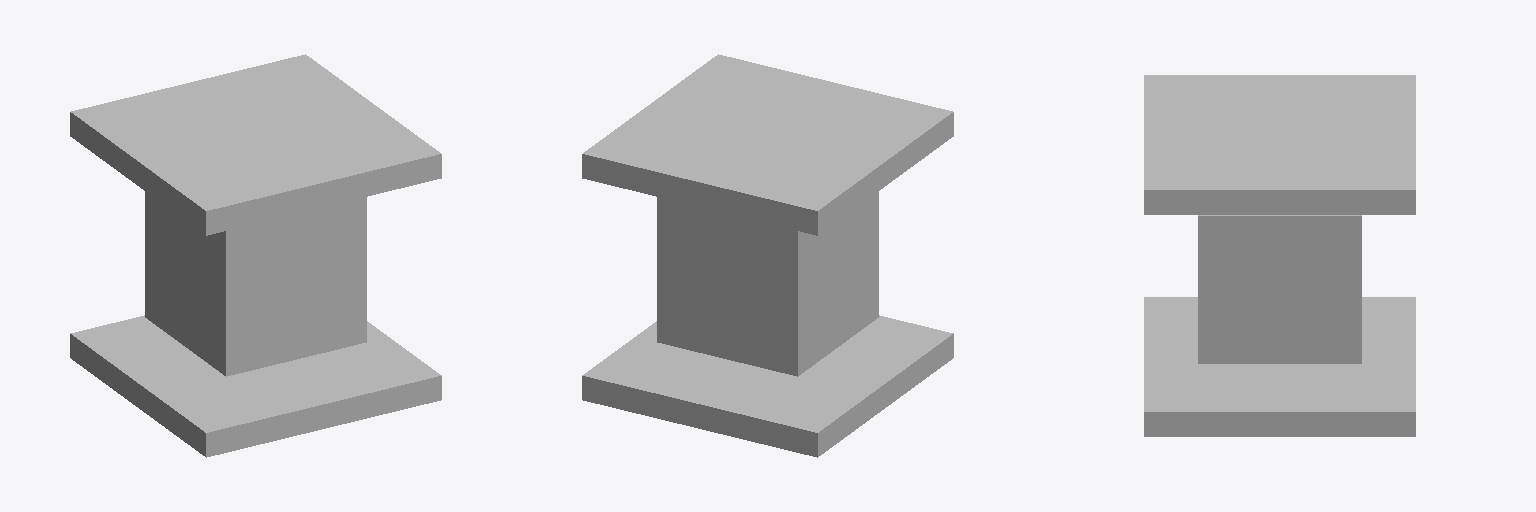
File: MIM.obj
3 renders of one model, left to right at view 1: azimuth 30°, elevation 25°; view 2: azimuth 150°, elevation 25°; view 3: azimuth 270°, elevation 25°, orthographic.
Visible parts, largest first — view 1: Cube.001_Cube.002, Cube.002_Cube.003, Cube_Cube.001; view 2: Cube.001_Cube.002, Cube.002_Cube.003, Cube_Cube.001; view 3: Cube.001_Cube.002, Cube_Cube.001, Cube.002_Cube.003.
Part boxes in pixels (left/top/right/bottom): Cube.001_Cube.002: left=70, top=54, right=441, bottom=235; Cube.002_Cube.003: left=145, top=191, right=366, bottom=376; Cube_Cube.001: left=70, top=315, right=441, bottom=457; Cube.001_Cube.002: left=582, top=54, right=953, bottom=235; Cube.002_Cube.003: left=657, top=191, right=878, bottom=376; Cube_Cube.001: left=582, top=315, right=953, bottom=457; Cube.001_Cube.002: left=1144, top=75, right=1415, bottom=214; Cube_Cube.001: left=1144, top=297, right=1415, bottom=436; Cube.002_Cube.003: left=1198, top=215, right=1361, bottom=363.
Size of the model in its own units: 2 by 2 by 2.